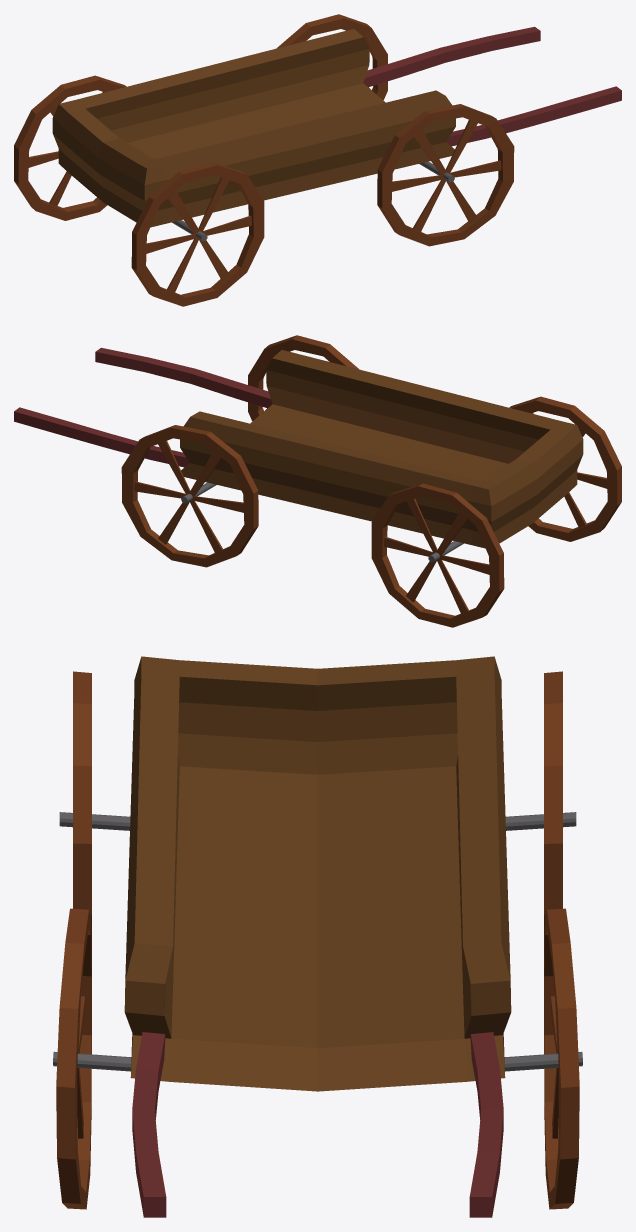
File: Cart.fbx
3 views of the same model, one above another, from view 1: azimuth 30°, elevation 25°; view 2: azimuth 150°, elevation 25°; view 3: azimuth 270°, elevation 25° (orthographic). The views are drawn at different scales.
Visible parts, largest first — view 1: Cart; view 2: Cart; view 3: Cart.
Part boxes in pixels (x1,y1,x2,y2): Cart: (14, 14, 621, 306); Cart: (14, 335, 621, 627); Cart: (53, 656, 582, 1217).
Bounding box in the file's own units: 8.96 × 2.28 × 4.08.
